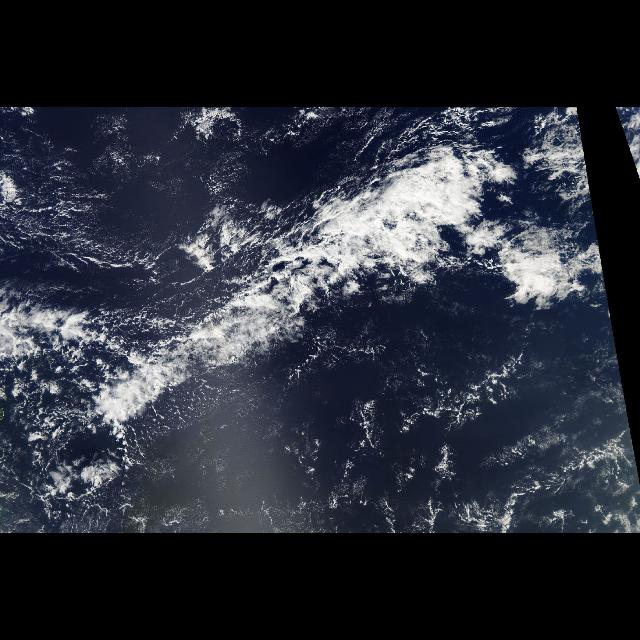Gravel: (352, 349, 540, 523)
Sugar: (16, 118, 170, 288)
